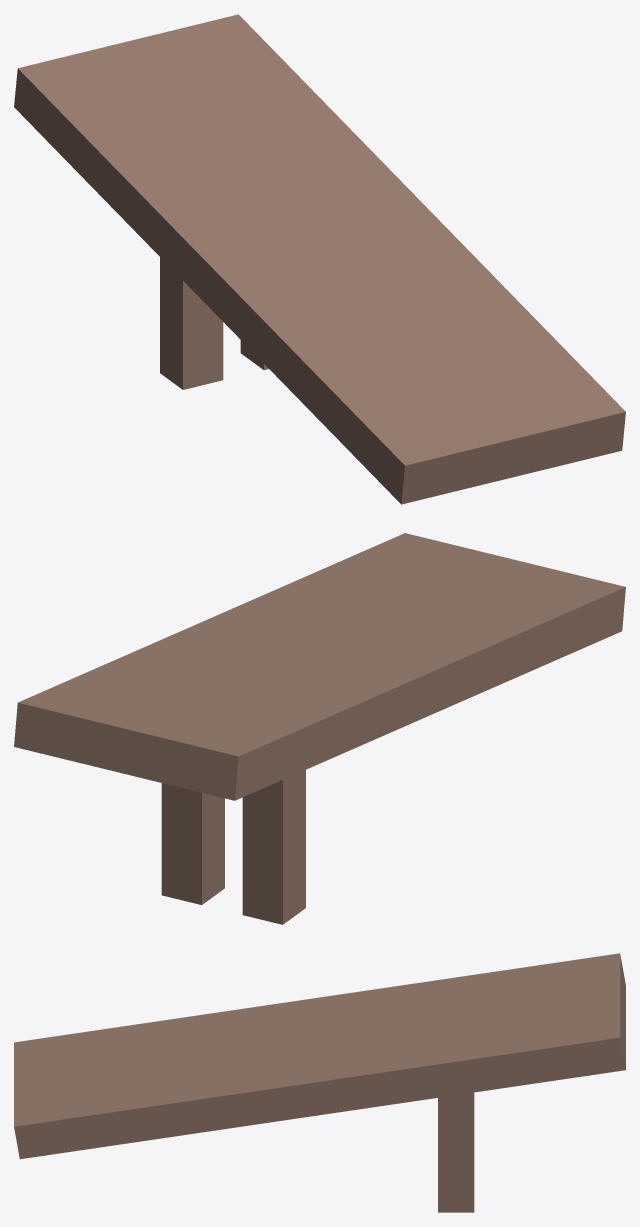
File: fbBridgeBroken.fbx
3 renders of one model, top to bottom at view 1: azimuth 30°, elevation 25°; view 2: azimuth 150°, elevation 25°; view 3: azimuth 270°, elevation 25°, orthographic. The views are drawn at different scales.
Parts seen in each view (by area): view 1: Cube.381; view 2: Cube.381; view 3: Cube.381.
Boxes of the visible parts, x1,y1,x2,y2 form: Cube.381: (14,14,625,504); Cube.381: (14,533,625,924); Cube.381: (14,953,625,1212).
Bounding box in the file's own units: 597 × 642 × 1831.
